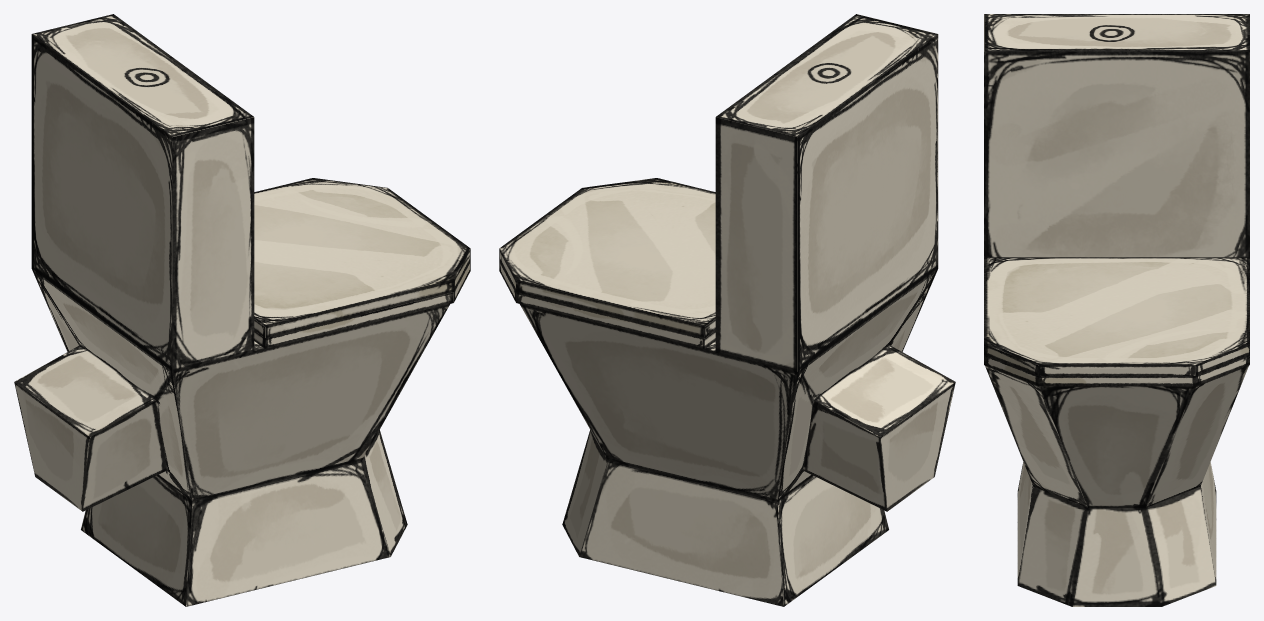
The model's file is toilet.fbx.
3 renders of one model, left to right at view 1: azimuth 30°, elevation 25°; view 2: azimuth 150°, elevation 25°; view 3: azimuth 270°, elevation 25°, orthographic. The views are drawn at different scales.
Parts seen in each view (by area): view 1: toilet, toilet_cap_top, toilet_cap_bottom; view 2: toilet, toilet_cap_top, toilet_cap_bottom; view 3: toilet, toilet_cap_top, toilet_cap_bottom.
Part boxes in pixels (x1=…): toilet: x1=14, y1=14, x2=449, y2=606; toilet_cap_top: x1=254, y1=178, x2=470, y2=337; toilet_cap_bottom: x1=254, y1=260, x2=470, y2=348; toilet: x1=520, y1=14, x2=955, y2=606; toilet_cap_top: x1=499, y1=178, x2=715, y2=337; toilet_cap_bottom: x1=499, y1=260, x2=715, y2=348; toilet: x1=984, y1=14, x2=1249, y2=606; toilet_cap_top: x1=984, y1=257, x2=1249, y2=375; toilet_cap_bottom: x1=984, y1=355, x2=1249, y2=386.
Size of the model in its own units: 1.25 by 1.56 by 0.8113.
3 materials, 3 textured.
